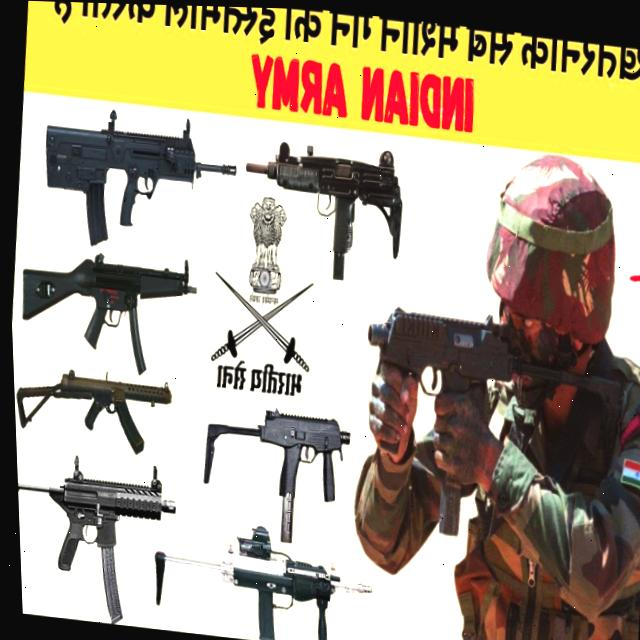firearm: (345, 294, 628, 551), (32, 99, 241, 261), (13, 445, 178, 630), (141, 509, 373, 640), (11, 238, 199, 380), (234, 130, 407, 284), (191, 394, 351, 547), (10, 358, 171, 457)
